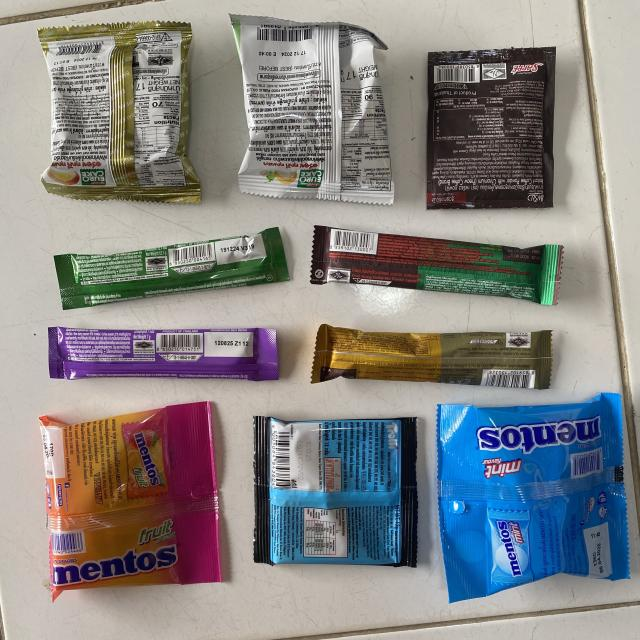plastik: (438, 392, 629, 602), (40, 402, 221, 600), (230, 15, 394, 204), (38, 21, 200, 202), (254, 416, 418, 566), (426, 48, 555, 209), (310, 225, 564, 305), (55, 228, 289, 310), (311, 325, 551, 389), (48, 326, 278, 381)
